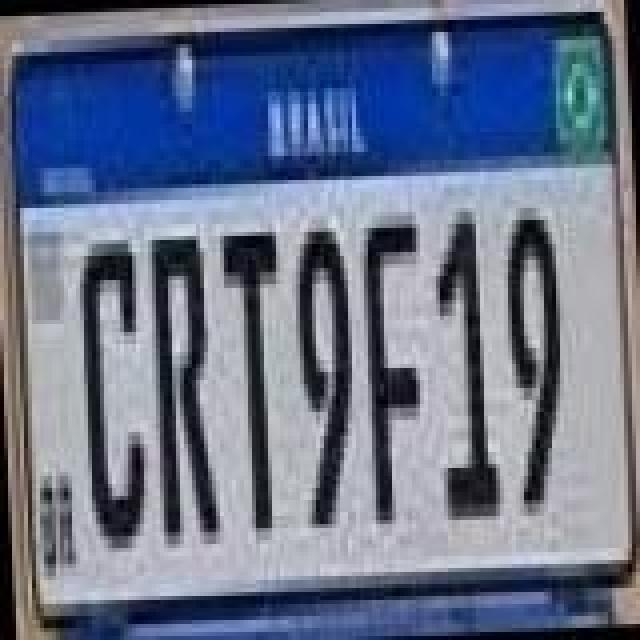1: (428, 210, 500, 526)
9: (290, 218, 366, 534), (500, 204, 572, 516)
C: (74, 234, 150, 550)
F: (358, 210, 434, 526)
R: (146, 234, 222, 550)
T: (220, 226, 292, 542)
